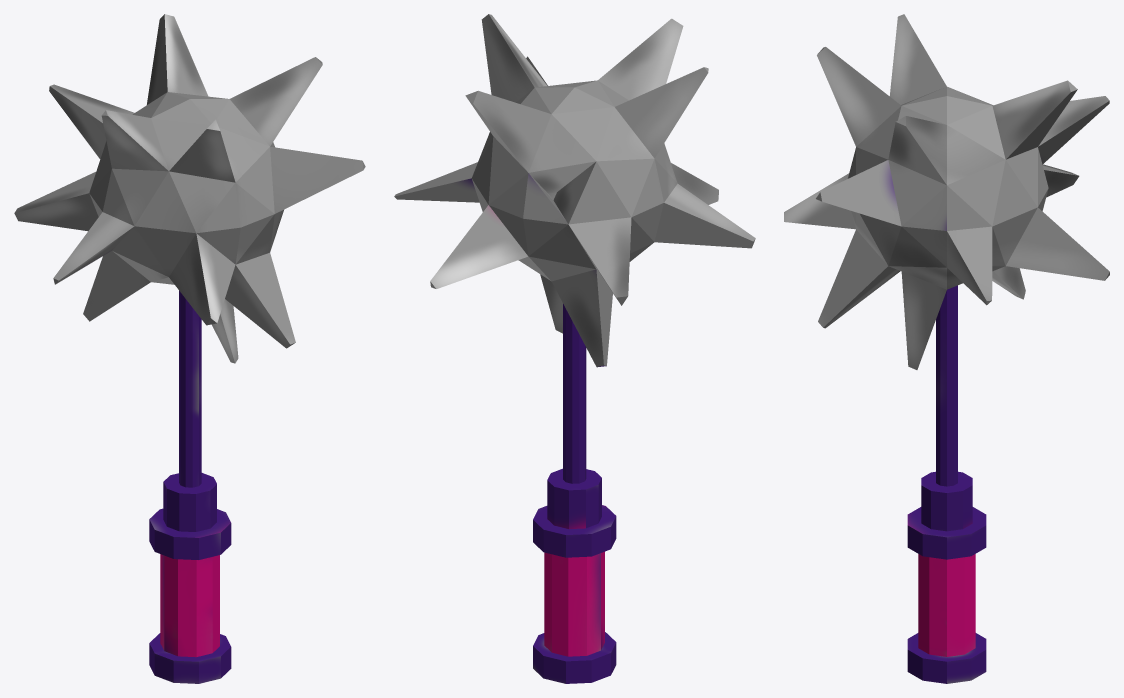
Rendered from morgenstjernestd.fbx.
3 views of the same model, side by side, from view 1: azimuth 30°, elevation 25°; view 2: azimuth 150°, elevation 25°; view 3: azimuth 270°, elevation 25° (orthographic).
Visible parts, largest first — view 1: Cylinder_2; view 2: Cylinder_2; view 3: Cylinder_2.
Part boxes in pixels (bbox=[...]): Cylinder_2: bbox=[14, 14, 365, 683]; Cylinder_2: bbox=[394, 14, 755, 683]; Cylinder_2: bbox=[784, 14, 1109, 683].
Size of the model in its own units: 58.02 by 107 by 52.3.
Materials: 1 (1 with a texture image).
